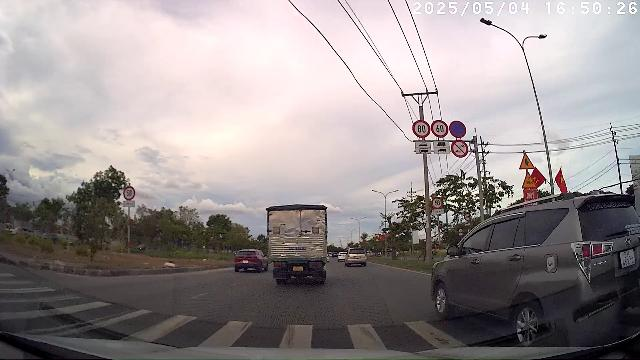127-toc-do-toi-da-50: (123, 186, 136, 201), (431, 197, 443, 209)
127-toc-do-toi-da-60: (431, 119, 449, 137)
127-toc-do-toi-da-80: (412, 119, 431, 137)
130-cam-dung-va-do-xe: (449, 120, 467, 138)
